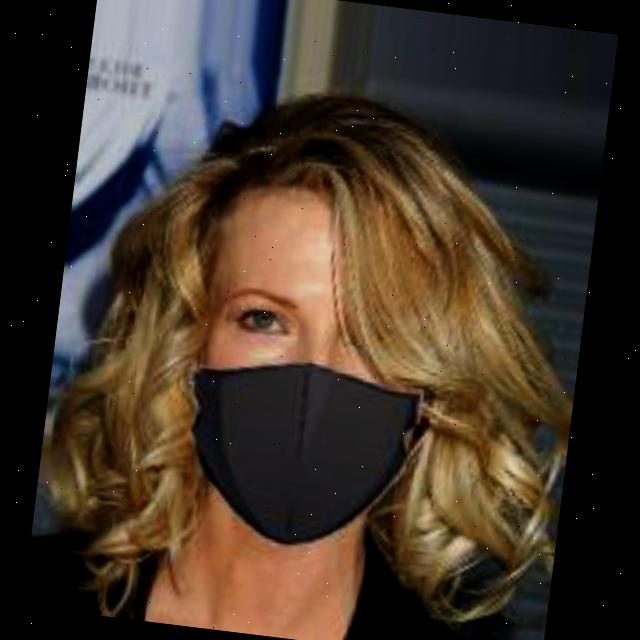suspicion: (151, 130, 488, 568)
